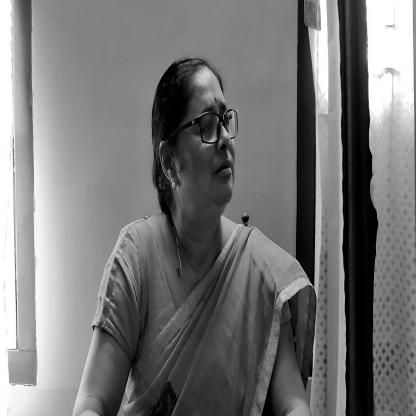Distracted: (147, 61, 248, 218)
